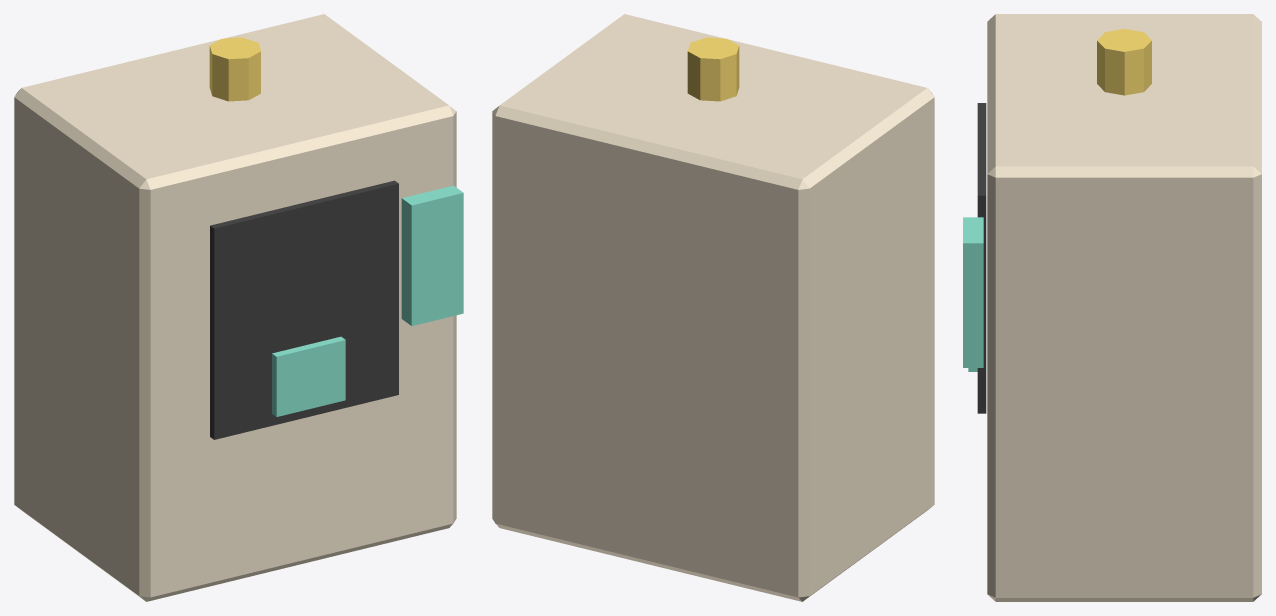
3 renders of one model, left to right at view 1: azimuth 30°, elevation 25°; view 2: azimuth 150°, elevation 25°; view 3: azimuth 270°, elevation 25°, orthographic. The views are drawn at different scales.
Visible parts, largest first — view 1: Machine, Cabinet window, Control panel, Workpiece, Warning lamp; view 2: Machine, Warning lamp; view 3: Machine, Warning lamp, Control panel, Cabinet window.
Part boxes in pixels (box(x1,y1,x2,y2)): Machine: box(14, 14, 456, 601); Cabinet window: box(210, 180, 398, 439); Control panel: box(401, 185, 463, 325); Workpiece: box(272, 336, 345, 416); Warning lamp: box(209, 37, 260, 101); Machine: box(492, 14, 934, 601); Warning lamp: box(687, 37, 739, 101); Machine: box(987, 14, 1261, 601); Warning lamp: box(1097, 29, 1151, 95); Control panel: box(963, 217, 983, 367); Cabinet window: box(977, 103, 986, 413).
Bounding box in the file's own units: 1.1 × 1.56 × 0.87.
Materials: 1 (1 with a texture image).
